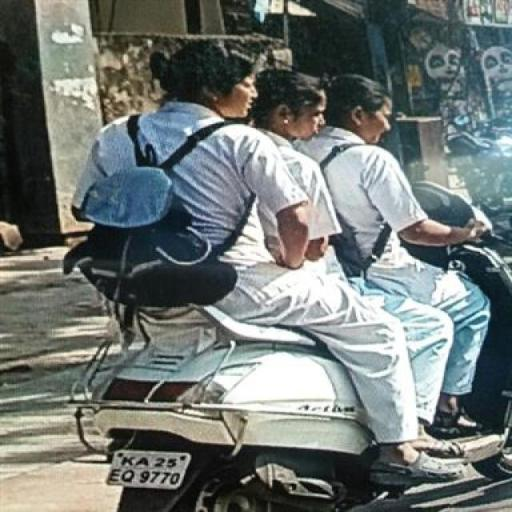tripple riding: (57, 33, 512, 297)
